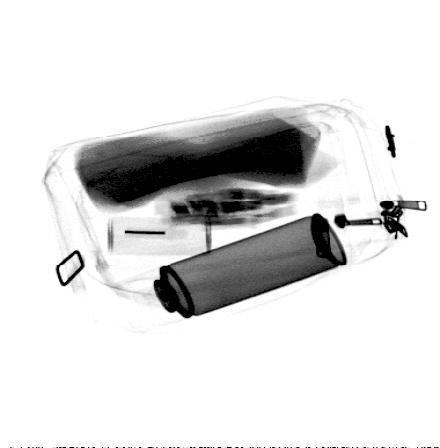Sprayer: (112, 211, 349, 335)
